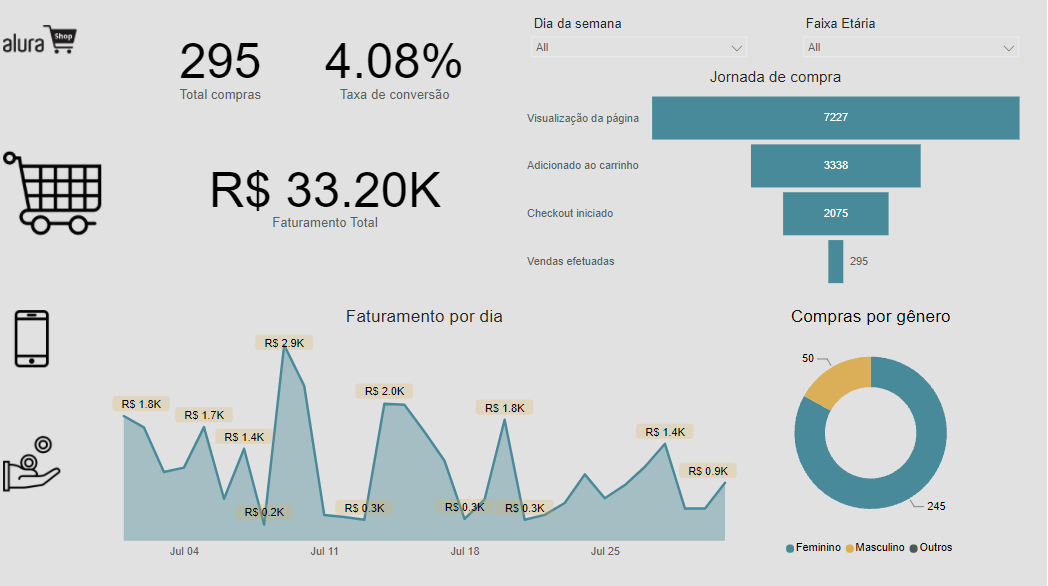

Layout of this report page (visuals, bound fields, positions):
{"tool":"powerbi","page":{"name":"Vendas","canvas":[1280,720],"ordinal":1},"visuals":[{"type":"image","title":"Compras","box":[0,173.1,130,130],"z":0},{"type":"image","box":[0,0,100,100],"z":1000},{"type":"image","box":[0,376.2,80,80],"z":2000},{"type":"image","box":[0,529.2,80,80],"z":3000},{"type":"card","fields":{"Values":["Medidas Compras.Taxa de conversão"]},"box":[373.6,16.7,218.9,126.6],"z":4000},{"type":"donutChart","title":"Compras por gênero","fields":{"Y":["Tabela_idade_e_genero.Total compras"],"Category":["Tabela_idade_e_genero.Gênero"]},"box":[873.8,376.3,383.3,315.6],"z":5000},{"type":"funnel","title":"Jornada de compra","fields":{"Y":["Medidas Compras.Visualização da página","Jornada Compras.Total Carrinho","Jornada Compras.Total Checkout","Tabela_idade_e_genero.Total compras"]},"box":[640,85.3,617.1,275.2],"z":6000},{"type":"card","fields":{"Values":["Tabela de Medidas.Faturamento"]},"box":[167.9,152.1,462.4,172.3],"z":7000},{"type":"card","fields":{"Values":["Tabela_idade_e_genero.Total compras"]},"box":[167.9,16.7,205.7,126.6],"z":8000},{"type":"slicer","fields":{"Values":["Calendario.Dia nome"]},"box":[640,16.7,284,65.9],"z":9000},{"type":"slicer","fields":{"Values":["Tabela_idade_e_genero.Idade"]},"box":[973.2,16.7,284,65.9],"z":10000},{"type":"areaChart","title":"Faturamento por dia","fields":{"Y":["Tabela de Medidas.Faturamento"],"Category":["Tabela - Tabela Idade e genero.Dia"]},"box":[130.1,376.3,780.7,315.6],"z":11000}]}

Visuals, with their boxes in screenshot pixels (x1, y1, x2, y2), scaled from the page's 1280x720 canvas onto the 1048x586 screenshot:
"Compras" image: crop(0, 141, 106, 247)
image: crop(0, 0, 82, 81)
image: crop(0, 306, 66, 371)
image: crop(0, 431, 66, 496)
card - Medidas Compras.Taxa de conversão: crop(306, 14, 485, 117)
"Compras por gênero" donutChart: crop(715, 306, 1029, 563)
"Jornada de compra" funnel: crop(524, 69, 1029, 293)
card - Tabela de Medidas.Faturamento: crop(137, 124, 516, 264)
card - Tabela_idade_e_genero.Total compras: crop(137, 14, 306, 117)
slicer - Calendario.Dia nome: crop(524, 14, 757, 67)
slicer - Tabela_idade_e_genero.Idade: crop(797, 14, 1029, 67)
"Faturamento por dia" areaChart: crop(107, 306, 746, 563)
